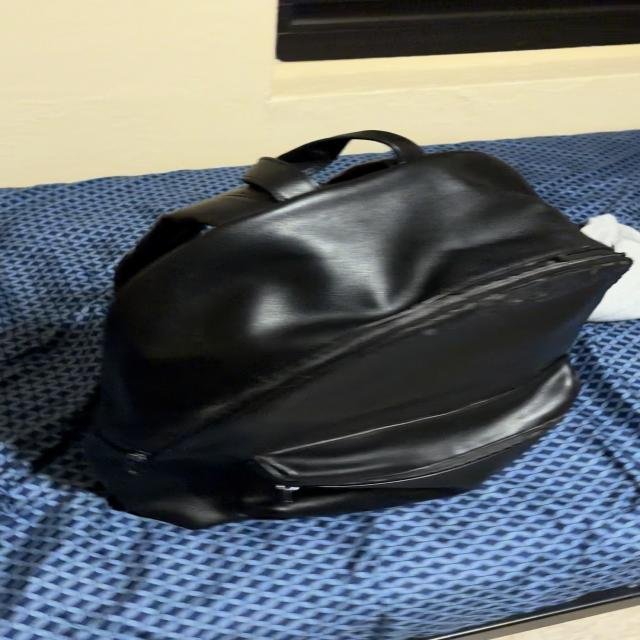backpack: (86, 130, 629, 528)
